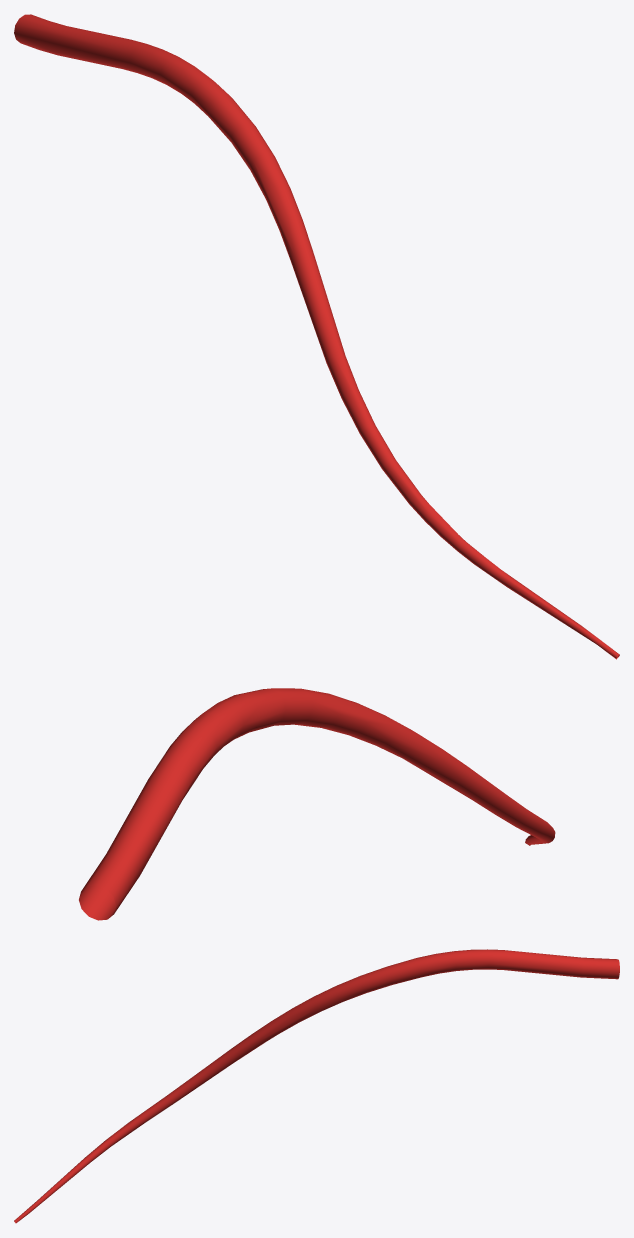
The model's file is circulatorio-inferior-ophthalmic-vein-l.glb.
3 renders of one model, top to bottom at view 1: azimuth 30°, elevation 25°; view 2: azimuth 150°, elevation 25°; view 3: azimuth 270°, elevation 25°, orthographic. The views are drawn at different scales.
Parts seen in each view (by area): view 1: Inferior ophthalmic vein.l; view 2: Inferior ophthalmic vein.l; view 3: Inferior ophthalmic vein.l.
Part boxes in pixels (<box>): Inferior ophthalmic vein.l: <box>14,14,619,659</box>; Inferior ophthalmic vein.l: <box>79,688,555,920</box>; Inferior ophthalmic vein.l: <box>14,949,619,1223</box>.
Bounding box in the file's own units: 0.0055 × 0.0133 × 0.0301.
